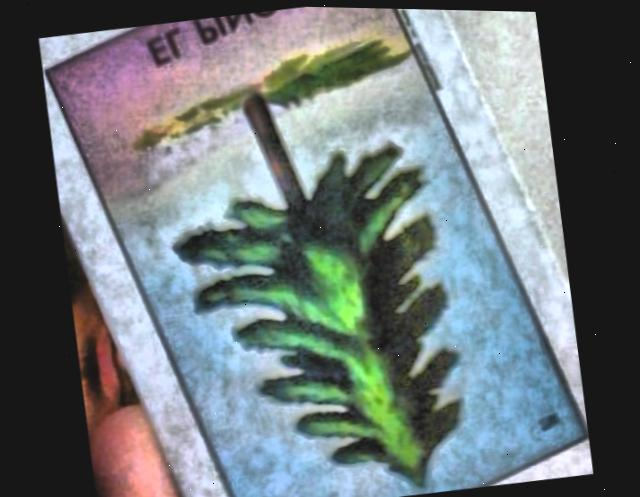El Pino: (46, 5, 589, 497)
